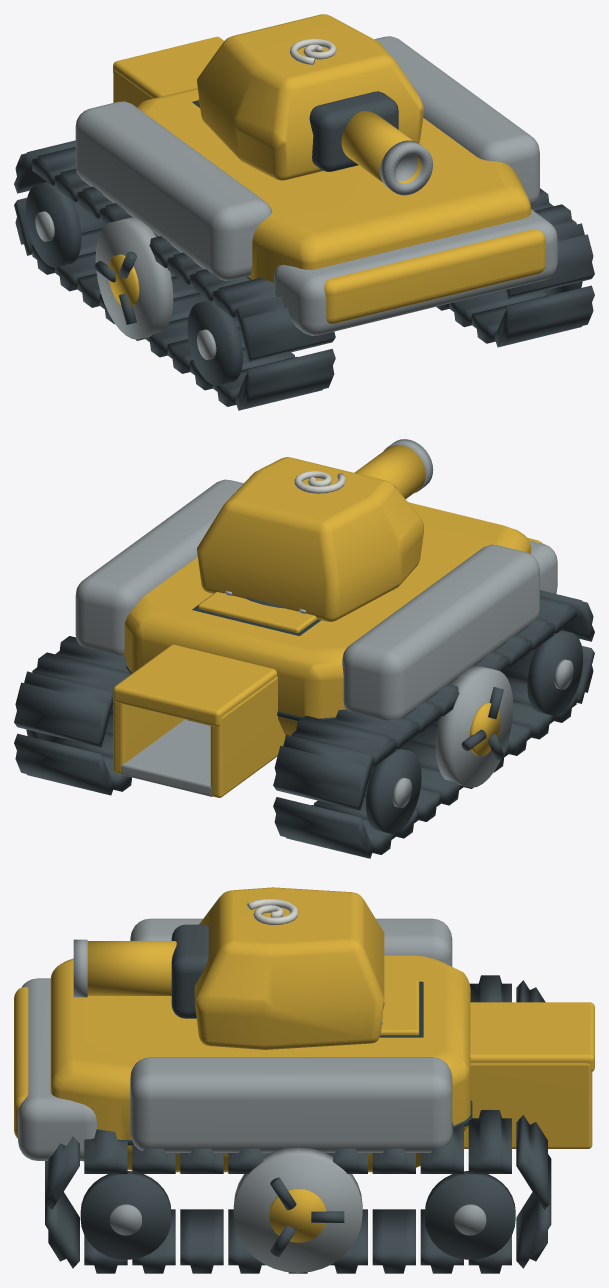
The model's file is TOY_MINER.hi.glb.
3 views of the same model, one above another, from view 1: azimuth 30°, elevation 25°; view 2: azimuth 150°, elevation 25°; view 3: azimuth 270°, elevation 25° (orthographic). The views are drawn at different scales.
Parts seen in each view (by area): view 1: Body, TurretYaw, WheelLeft, BarrelRecoil; view 2: Body, TurretYaw, WheelLeft, BarrelRecoil; view 3: Body, TurretYaw, WheelRight, BarrelRecoil.
Part boxes in pixels (box(x1,y1,x2,y2)): Body: box(14, 36, 594, 410); TurretYaw: box(197, 14, 423, 180); WheelLeft: box(94, 217, 173, 339); BarrelRecoil: box(341, 111, 433, 195); Body: box(14, 479, 594, 858); TurretYaw: box(197, 457, 423, 621); WheelLeft: box(435, 665, 513, 787); BarrelRecoil: box(354, 439, 433, 498); Body: box(14, 918, 594, 1273); TurretYaw: box(171, 887, 384, 1049); WheelRight: box(233, 1147, 362, 1272); BarrelRecoil: box(73, 939, 176, 997).
Bounding box in the file's own units: 0.8048 × 0.5257 × 1.01.
